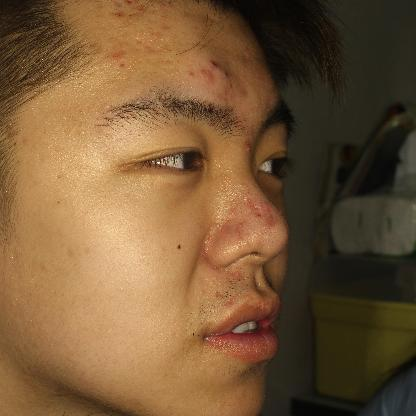Blackheads: (168, 235, 194, 258)
